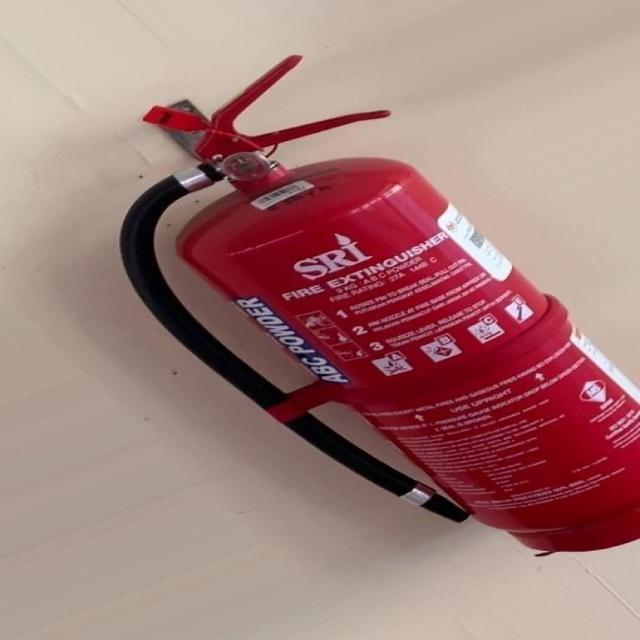fire_extinguisher: (105, 49, 639, 558)
